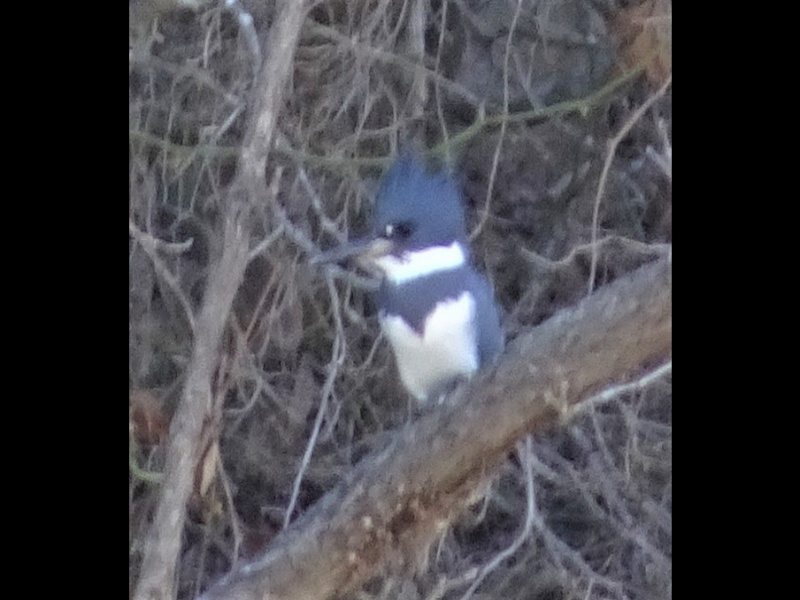kingfisher: (306, 144, 506, 420)
